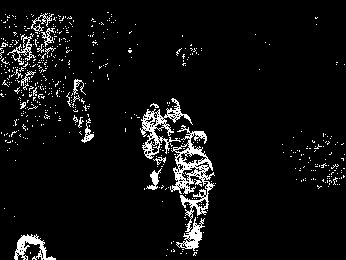person: (174, 131, 215, 252), (141, 103, 169, 186), (65, 78, 94, 144), (164, 97, 192, 156)
